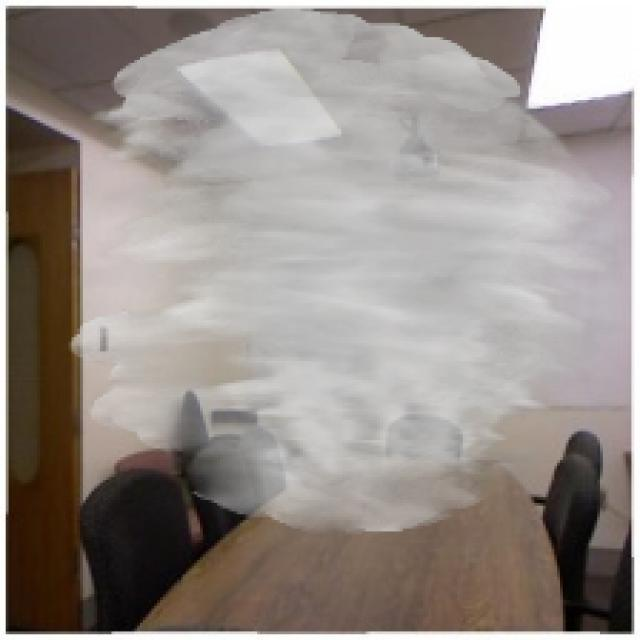smoke: (68, 9, 623, 534)
